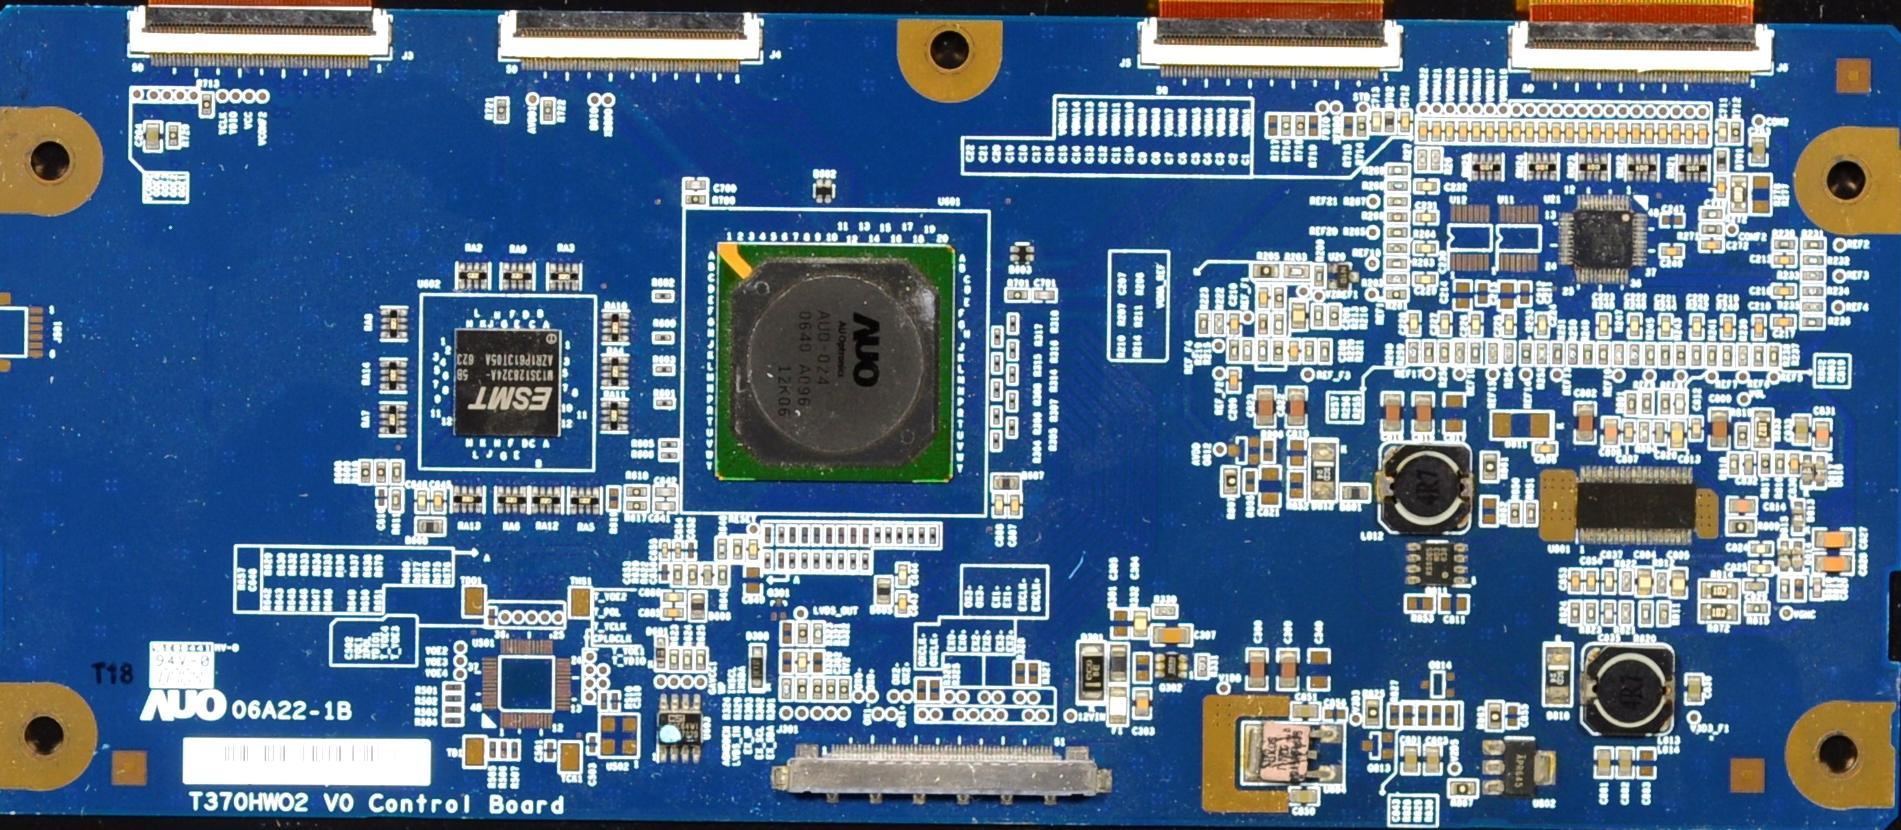Capacitor: (743, 565, 767, 602), (1260, 469, 1284, 503), (1815, 530, 1855, 549), (1256, 389, 1275, 427), (1385, 394, 1403, 433), (1579, 403, 1595, 445), (1154, 626, 1192, 645), (1249, 649, 1266, 689), (1415, 395, 1432, 434), (1751, 134, 1771, 166), (1311, 652, 1328, 689), (1281, 653, 1298, 689), (1289, 389, 1305, 428), (1712, 410, 1728, 447), (1595, 746, 1612, 780), (1113, 612, 1134, 640), (1288, 439, 1307, 468), (1291, 789, 1321, 807), (1794, 416, 1811, 447), (1617, 746, 1634, 778), (1134, 689, 1152, 719), (991, 491, 1006, 523), (1440, 597, 1469, 614), (1408, 313, 1426, 339), (1671, 420, 1686, 451), (1295, 702, 1320, 720), (1686, 677, 1703, 704), (1440, 310, 1456, 338), (1007, 493, 1023, 521), (1403, 745, 1418, 773), (1729, 499, 1758, 514), (1414, 273, 1440, 288), (1749, 542, 1776, 557), (744, 539, 763, 562), (1817, 422, 1832, 450), (145, 125, 161, 150), (1534, 311, 1549, 337), (416, 490, 432, 515), (1136, 613, 1152, 639), (695, 649, 710, 675), (1771, 256, 1798, 270), (797, 652, 811, 679), (1426, 746, 1440, 773), (1469, 311, 1485, 336), (1502, 316, 1518, 340), (1719, 316, 1735, 340), (701, 563, 717, 588), (1701, 240, 1726, 254), (1770, 315, 1796, 330), (433, 490, 447, 515), (669, 648, 684, 674), (1249, 439, 1261, 469), (1655, 423, 1668, 450), (662, 590, 689, 603), (1281, 111, 1294, 141), (1446, 116, 1458, 145), (1417, 181, 1442, 195), (1606, 419, 1619, 448), (782, 649, 797, 674), (1774, 285, 1796, 300), (685, 194, 710, 207), (1629, 313, 1643, 338), (1659, 314, 1672, 339), (1751, 563, 1776, 577), (897, 563, 910, 589), (1602, 601, 1615, 626), (1414, 242, 1438, 256), (1661, 245, 1685, 258), (1228, 313, 1240, 339), (1625, 420, 1637, 447), (815, 652, 827, 679), (1673, 393, 1688, 414), (1484, 118, 1496, 143), (1471, 119, 1483, 144), (683, 648, 695, 674), (687, 179, 710, 193), (1811, 578, 1825, 601), (780, 679, 793, 702), (1498, 116, 1509, 144), (1420, 118, 1431, 145), (1619, 121, 1631, 145), (1692, 315, 1705, 339), (1789, 452, 1802, 476), (663, 606, 687, 618), (1432, 116, 1443, 143), (1034, 290, 1056, 303), (897, 593, 910, 614), (1297, 111, 1307, 141), (1400, 111, 1412, 134), (1579, 121, 1591, 144), (1671, 122, 1683, 145), (1258, 288, 1271, 311), (1754, 316, 1766, 339), (1289, 340, 1301, 364), (1552, 119, 1563, 144), (1539, 120, 1549, 145), (1657, 124, 1669, 145), (1699, 124, 1711, 145), (1692, 417, 1705, 439), (1535, 445, 1557, 457), (660, 540, 672, 562), (1572, 569, 1583, 594), (782, 623, 794, 645), (1414, 213, 1437, 224), (1600, 315, 1611, 338), (657, 486, 678, 498), (1460, 118, 1469, 143), (1645, 122, 1655, 148), (1604, 124, 1615, 145), (1592, 124, 1603, 145), (1745, 456, 1756, 477), (1269, 113, 1278, 141), (1513, 119, 1523, 143), (1717, 174, 1726, 198), (1686, 120, 1695, 145), (1718, 119, 1728, 141), (1525, 122, 1535, 144), (1566, 121, 1575, 145), (1633, 122, 1642, 147), (677, 538, 685, 562), (1231, 371, 1239, 394), (1605, 569, 1614, 593), (1588, 571, 1597, 593), (655, 504, 677, 511)
Connector: (1484, 2, 1789, 88), (124, 2, 407, 71), (491, 15, 778, 75)
IC: (713, 242, 960, 482), (432, 302, 586, 466), (1577, 466, 1697, 546), (1554, 196, 1652, 290), (481, 640, 571, 728), (660, 694, 704, 765)
Resistor: (1701, 579, 1739, 602), (1700, 602, 1740, 623), (1751, 178, 1771, 214), (1364, 699, 1383, 731), (1732, 174, 1747, 216), (1405, 596, 1435, 613), (1488, 702, 1505, 731), (1729, 519, 1756, 537), (1289, 474, 1306, 502), (1622, 391, 1640, 417), (493, 95, 509, 124), (1798, 254, 1828, 269), (1705, 343, 1720, 370), (1483, 456, 1498, 482), (626, 485, 652, 500), (717, 539, 733, 563), (824, 679, 841, 703), (421, 521, 449, 536), (991, 351, 1006, 377), (1797, 300, 1829, 313), (1254, 267, 1280, 281), (1385, 287, 1411, 302), (1355, 113, 1369, 141), (1586, 602, 1600, 628), (814, 679, 828, 704), (375, 460, 390, 483), (795, 679, 811, 702), (1223, 466, 1235, 496), (392, 488, 404, 517), (1005, 290, 1031, 303), (1802, 317, 1827, 331), (1319, 339, 1332, 365), (360, 460, 373, 486), (1655, 572, 1668, 597), (1746, 602, 1771, 616), (1805, 237, 1828, 252), (1736, 424, 1751, 447), (390, 460, 405, 483), (1620, 603, 1634, 626), (1659, 347, 1675, 366), (1385, 244, 1409, 257), (991, 406, 1004, 430), (991, 429, 1004, 453), (626, 500, 652, 513), (811, 522, 824, 546), (1659, 602, 1672, 626), (1660, 394, 1674, 416), (717, 565, 731, 586), (1386, 198, 1411, 210), (1274, 285, 1286, 310), (1511, 500, 1523, 526), (542, 101, 555, 124), (1775, 239, 1798, 252), (1551, 340, 1564, 364), (1502, 342, 1515, 365), (1385, 259, 1409, 271), (1802, 286, 1826, 298), (993, 325, 1004, 351), (1614, 344, 1627, 366), (1737, 344, 1751, 366), (1722, 348, 1735, 370), (798, 623, 811, 645), (444, 715, 466, 728), (1731, 121, 1743, 144), (1385, 227, 1408, 239), (1007, 340, 1020, 364), (1520, 343, 1532, 366), (1642, 391, 1654, 414), (927, 526, 940, 549), (814, 624, 826, 647), (1198, 313, 1209, 338), (994, 380, 1005, 406), (1643, 345, 1656, 366), (861, 523, 870, 551), (202, 93, 213, 118), (1009, 316, 1021, 338), (1272, 342, 1284, 364), (1488, 343, 1500, 365), (1009, 391, 1021, 413), (1526, 502, 1537, 526), (847, 553, 860, 574), (1571, 602, 1582, 626), (1386, 166, 1412, 176), (1623, 571, 1633, 597), (1388, 181, 1411, 191), (1701, 225, 1724, 236), (1313, 307, 1324, 330), (1009, 365, 1020, 388), (1776, 453, 1787, 476), (733, 538, 744, 561), (689, 565, 700, 588), (1781, 579, 1792, 602), (840, 679, 851, 702), (499, 739, 510, 762), (1805, 270, 1826, 282), (1408, 343, 1418, 365), (1456, 343, 1467, 365), (1762, 453, 1772, 475), (838, 525, 849, 546), (1642, 603, 1652, 625), (444, 682, 466, 693), (444, 694, 466, 705), (170, 125, 179, 149), (1261, 313, 1271, 337), (1675, 343, 1685, 367), (1753, 345, 1765, 365), (1689, 347, 1701, 366), (907, 526, 917, 550), (1471, 343, 1482, 364), (489, 742, 499, 762), (1372, 111, 1382, 134), (1331, 307, 1341, 330), (1585, 344, 1594, 367), (1771, 344, 1781, 367), (675, 565, 685, 588), (1009, 418, 1020, 437), (862, 551, 872, 573), (838, 553, 847, 574), (444, 706, 466, 716), (1705, 208, 1722, 221), (1442, 343, 1451, 364), (778, 526, 788, 546), (918, 526, 927, 546), (1305, 343, 1315, 361), (763, 526, 773, 544), (776, 553, 787, 571), (800, 553, 811, 571), (1631, 345, 1640, 365), (788, 553, 798, 572), (510, 742, 520, 761), (1387, 214, 1409, 223), (1425, 343, 1433, 365), (873, 523, 881, 545), (1387, 275, 1408, 284), (1571, 345, 1580, 366), (814, 553, 822, 573), (1600, 347, 1610, 364), (896, 526, 904, 545), (828, 526, 835, 548), (1539, 344, 1547, 362), (826, 553, 834, 571), (803, 527, 810, 546), (766, 553, 773, 571), (885, 526, 891, 546), (854, 526, 860, 546), (790, 527, 797, 546)
Transistor: (1328, 261, 1359, 292)
